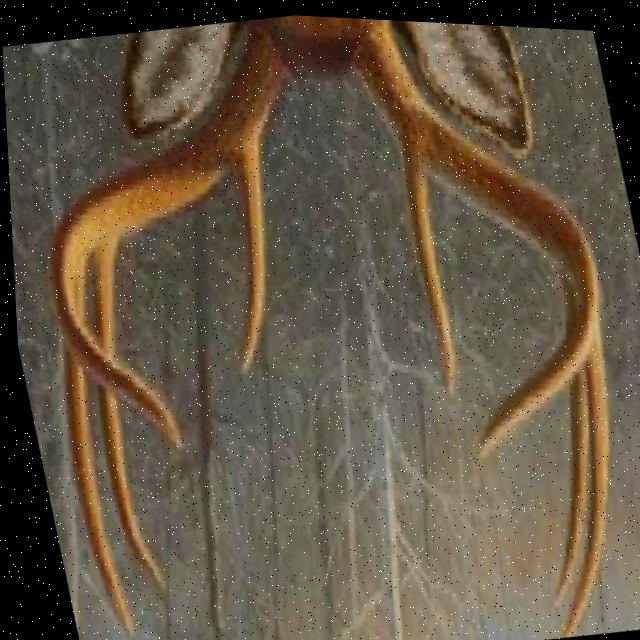L-F: (48, 28, 289, 443)
L-G1: (234, 135, 263, 373)
L-G3: (55, 323, 129, 640)
R-F: (353, 15, 597, 452)
R-G1: (400, 149, 453, 393)
R-G3: (550, 318, 605, 633)
